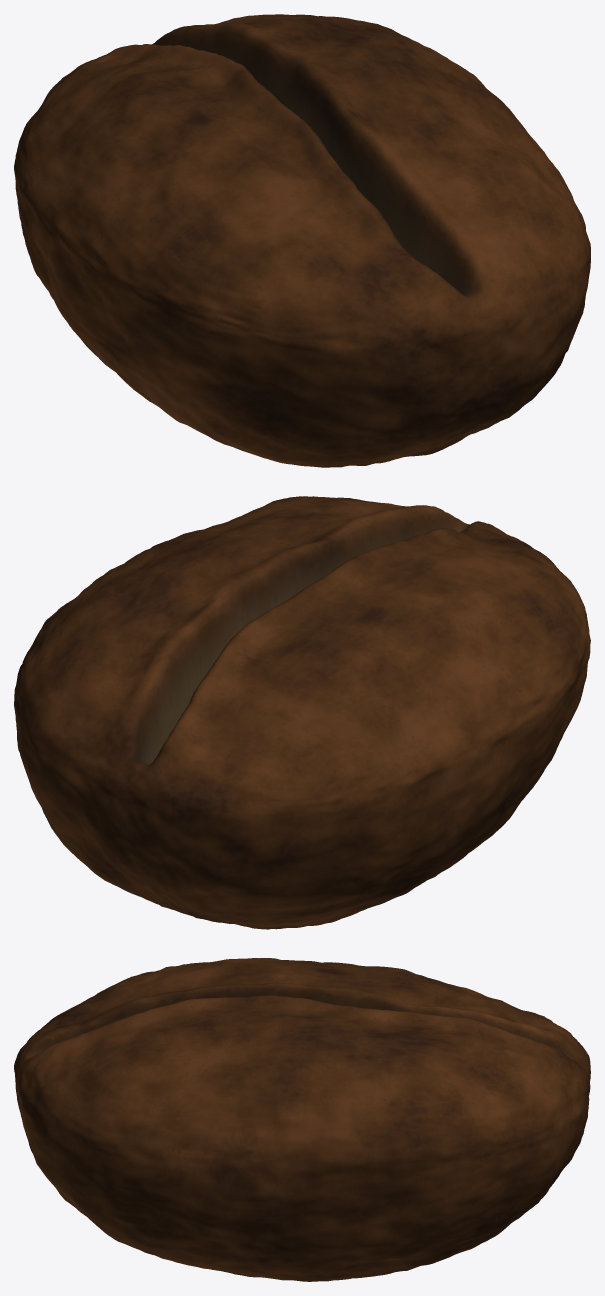
Rendered from coffee-bean-hero.glb.
3 views of the same model, one above another, from view 1: azimuth 30°, elevation 25°; view 2: azimuth 150°, elevation 25°; view 3: azimuth 270°, elevation 25° (orthographic). The views are drawn at different scales.
Parts seen in each view (by area): view 1: Bean_00_clasico_hero; view 2: Bean_00_clasico_hero; view 3: Bean_00_clasico_hero.
Part boxes in pixels (box(x1,y1,x2,y2)): Bean_00_clasico_hero: box(14, 14, 590, 467); Bean_00_clasico_hero: box(14, 496, 590, 929); Bean_00_clasico_hero: box(14, 958, 590, 1281).
Size of the model in its own units: 0.7309 by 0.5209 by 1.01.
1 material, 1 textured.
